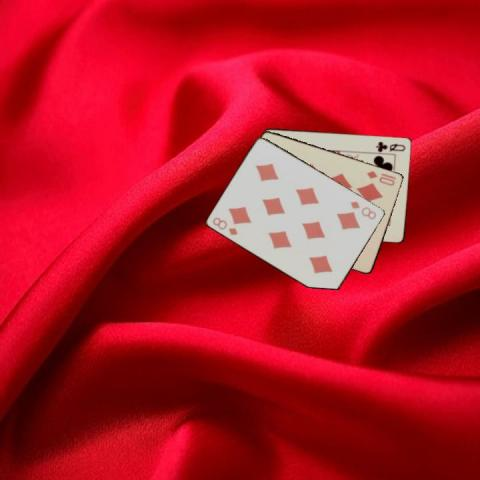10d: (364, 168, 398, 188)
8d: (347, 198, 378, 221), (210, 214, 239, 237)
Qc: (373, 138, 407, 153)
